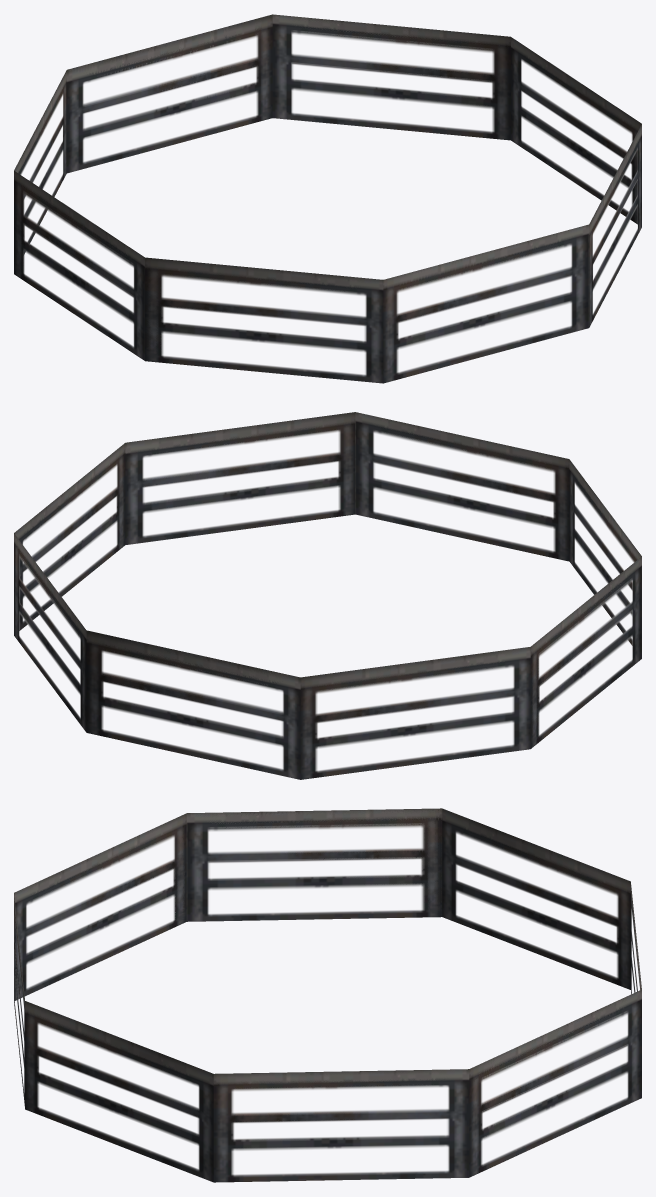
Rendered from Environment - Prop - TOWER 2 SN - Snow and Night - PMTOWER2_SN.glb.
The picture shows the model from 3 angles, top to bottom: view 1: azimuth 30°, elevation 25°; view 2: azimuth 150°, elevation 25°; view 3: azimuth 270°, elevation 25°; orthographic projection. The views are drawn at different scales.
Visible parts, largest first — view 1: PMTOWER2_SN; view 2: PMTOWER2_SN; view 3: PMTOWER2_SN.
Part boxes in pixels (x1,y1,x2,y2): PMTOWER2_SN: (14,14,641,383); PMTOWER2_SN: (14,412,641,779); PMTOWER2_SN: (14,808,641,1182).
Bounding box in the file's own units: 32.73 × 6.25 × 32.73.
Materials: 1 (1 with a texture image).
